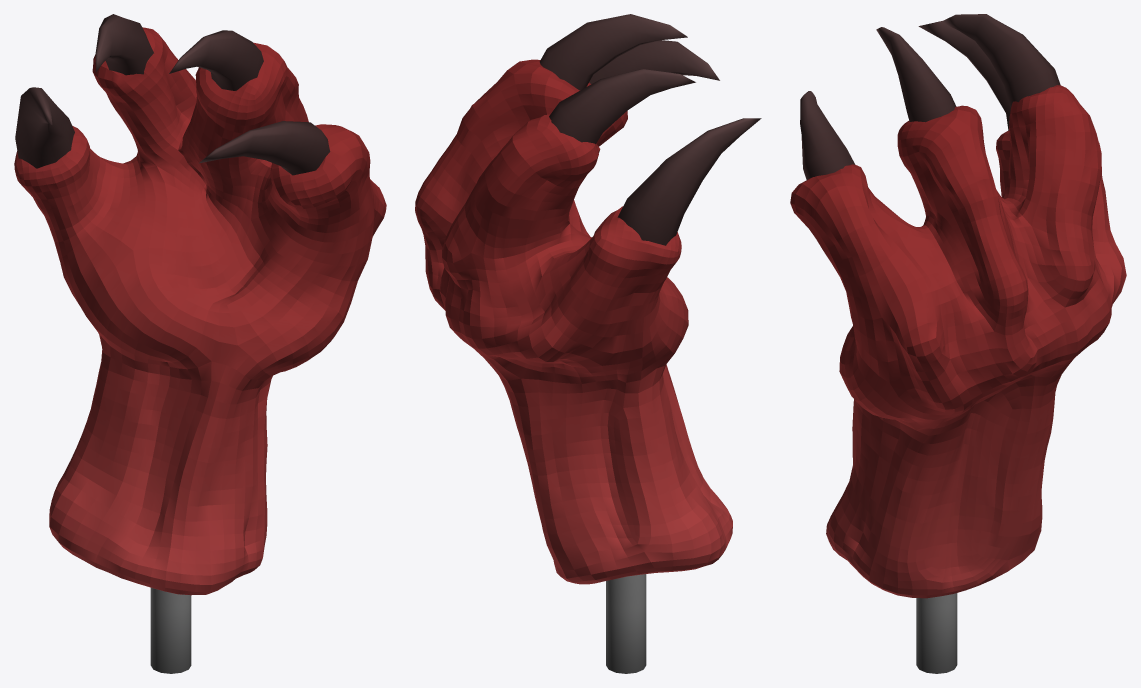
File: OBJ_DragonClaw.fbx
3 renders of one model, left to right at view 1: azimuth 30°, elevation 25°; view 2: azimuth 150°, elevation 25°; view 3: azimuth 270°, elevation 25°, orthographic.
Visible parts, largest first — view 1: OBJ_DragonClaw; view 2: OBJ_DragonClaw; view 3: OBJ_DragonClaw.
Part boxes in pixels (<box>): OBJ_DragonClaw: <box>14,14,386,673</box>; OBJ_DragonClaw: <box>415,14,761,673</box>; OBJ_DragonClaw: <box>790,14,1126,673</box>.
Bounding box in the file's own units: 52.3 × 96.3 × 45.98.
